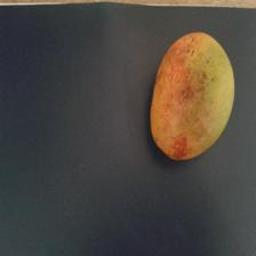Mango Semifresh: (138, 17, 242, 182)
